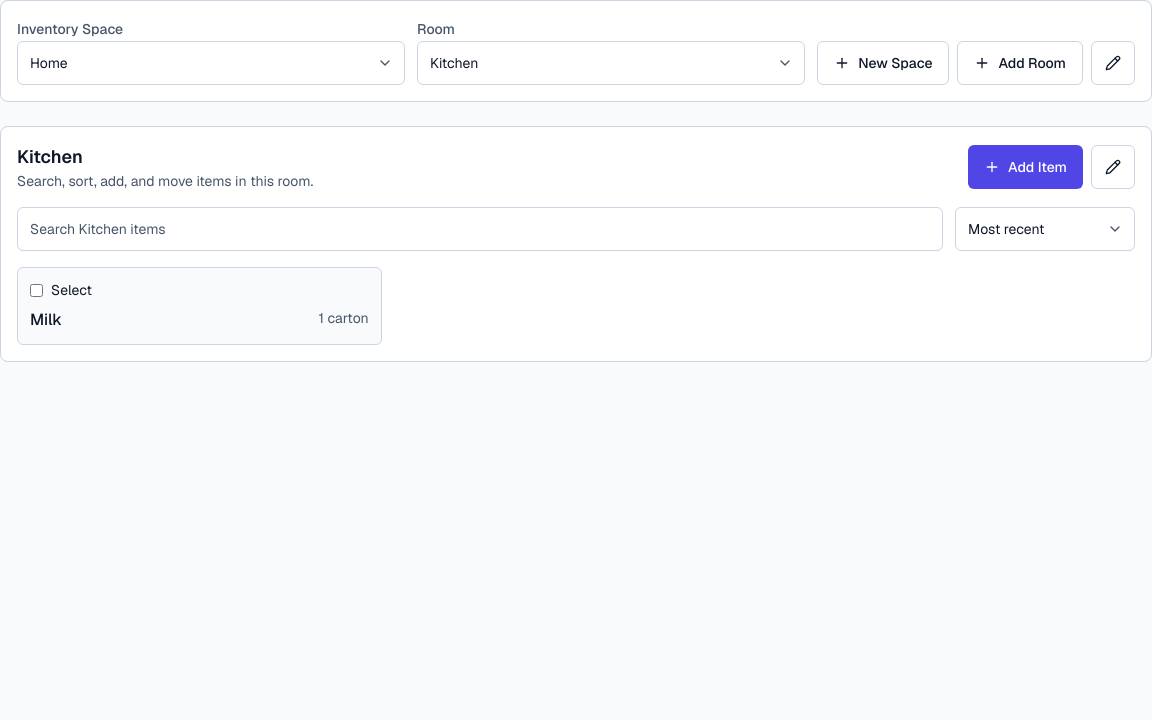
RoomDashboardSurface › shows warning flow for deleting non-empty room
The width and height of the screenshot is (1152, 720).
Click the button named "Edit Room" at point(1113, 167), box [1091,145,1135,189]
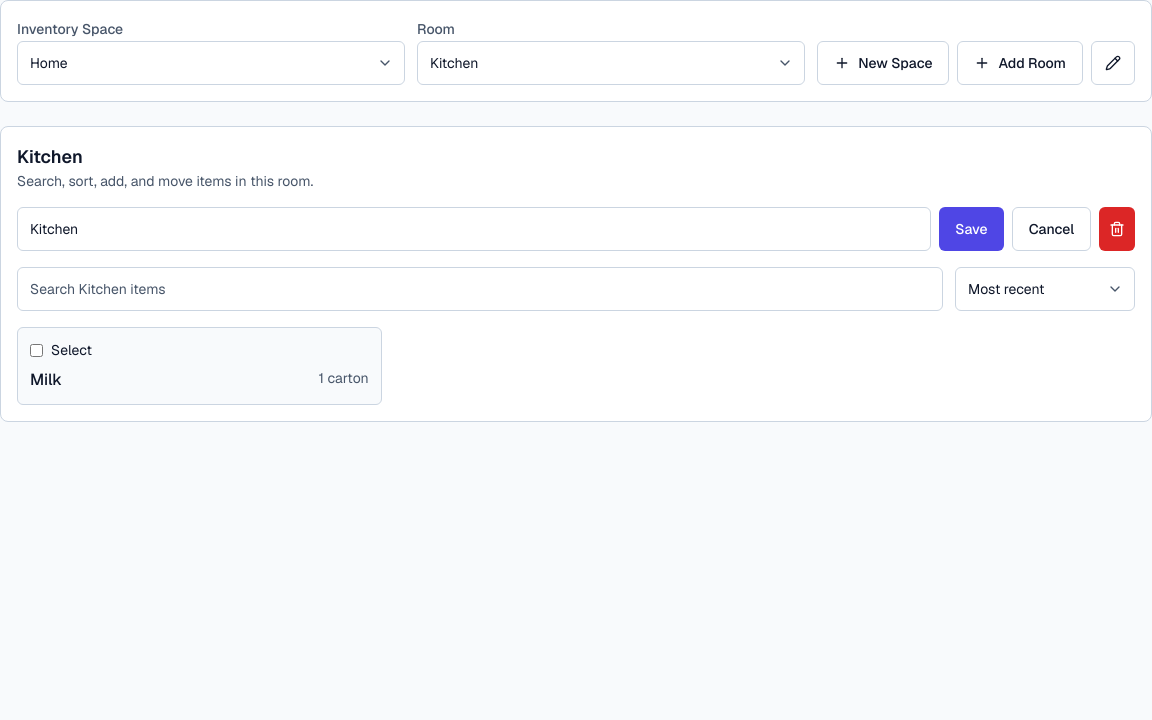
Click the button named "Delete Room" at point(1117, 229), box [1099,207,1135,251]
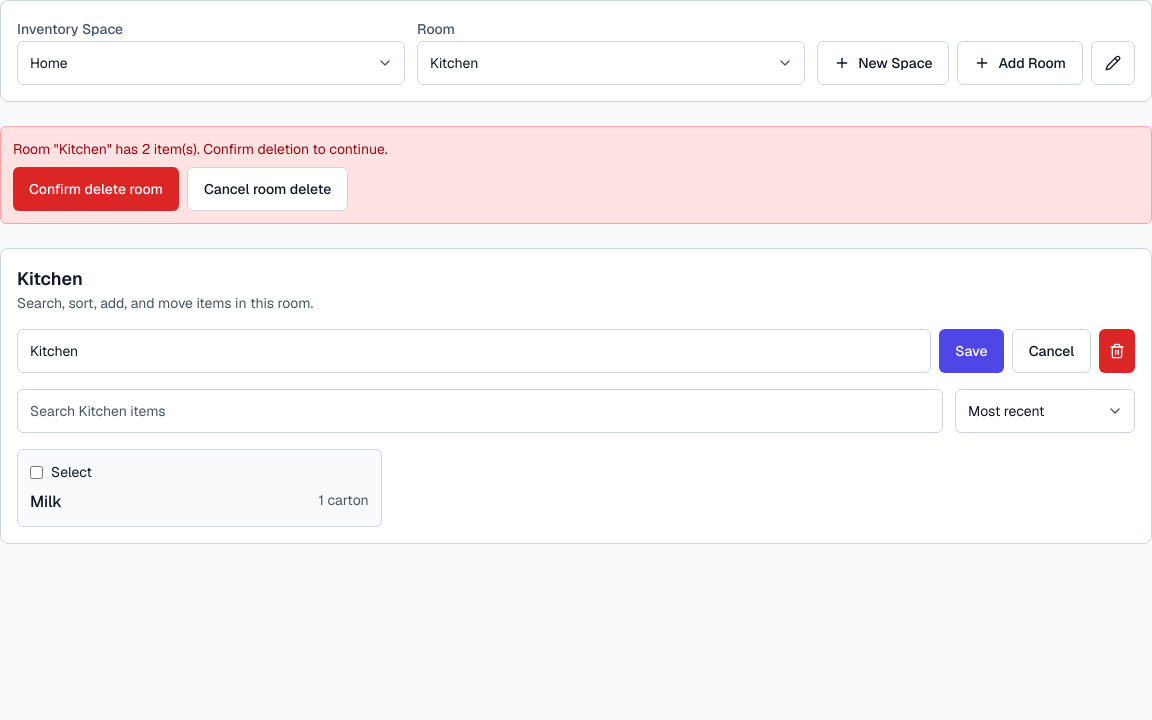
Expected: the text "Room \"Kitchen\" has 2 item(s). Confirm deletion to continue." is shown, [0,126,1151,224]
